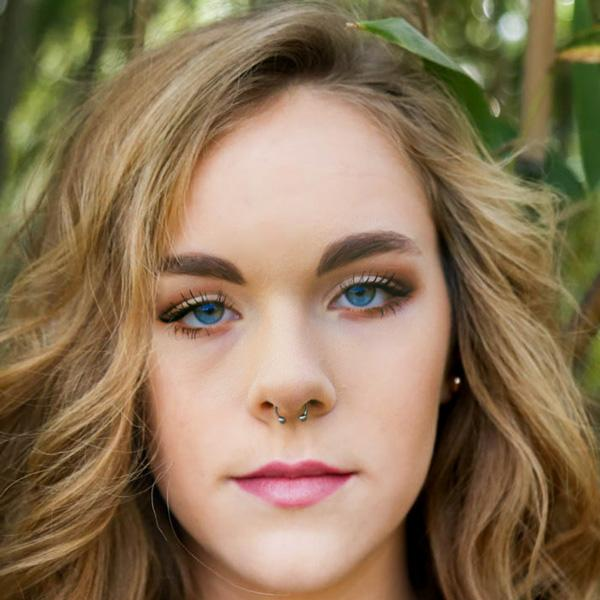Eyes: (315, 262, 422, 328), (146, 284, 250, 343)
